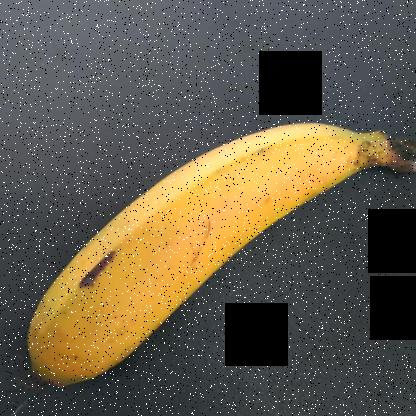freshripe: (1, 113, 393, 390)
